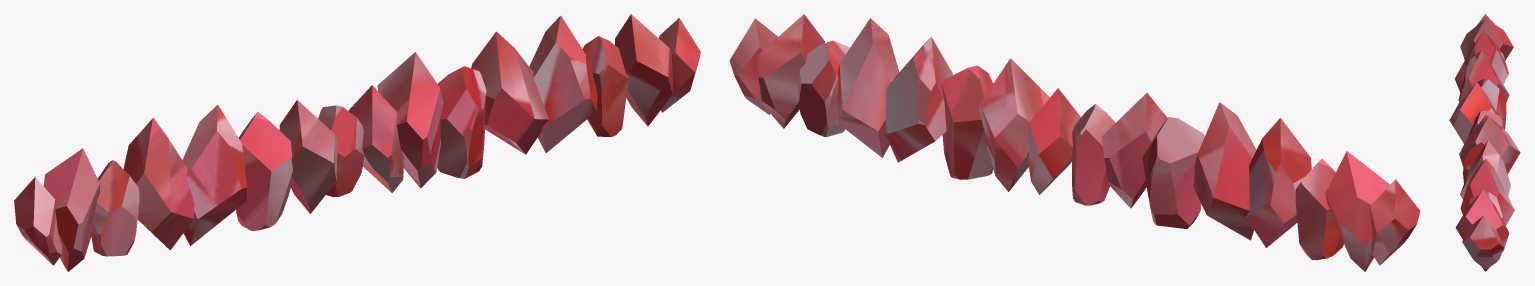
The model's file is Kill zone.fbx.
The picture shows the model from 3 angles, left to right: view 1: azimuth 30°, elevation 25°; view 2: azimuth 150°, elevation 25°; view 3: azimuth 270°, elevation 25°; orthographic projection. The views are drawn at different scales.
Visible parts, largest first — view 1: Icosphere.040; view 2: Icosphere.040; view 3: Icosphere.040.
Part boxes in pixels (left/top/right/bottom): Icosphere.040: left=14, top=14, right=700, bottom=271; Icosphere.040: left=729, top=14, right=1420, bottom=271; Icosphere.040: left=1449, top=14, right=1520, bottom=271.
Size of the model in its own units: 500 by 98.55 by 70.38.
